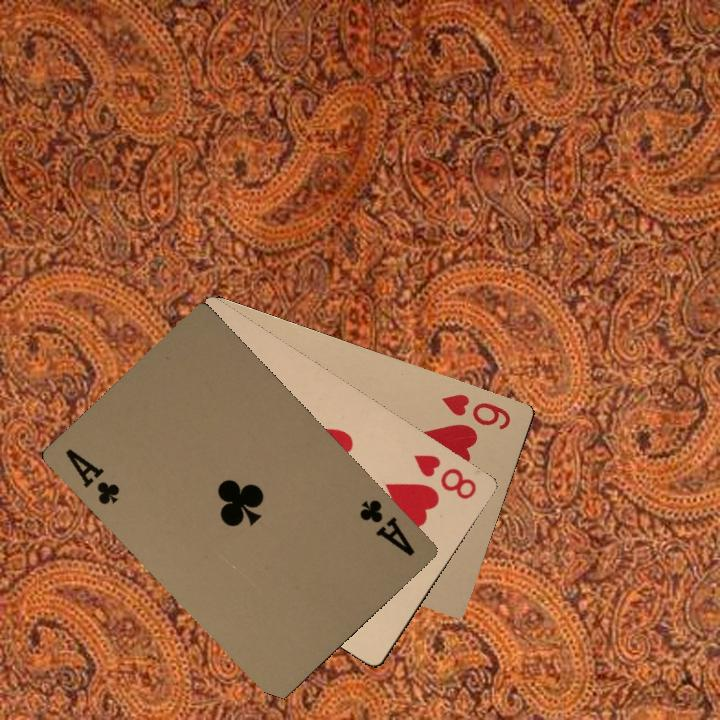6h: (440, 390, 513, 433)
8h: (410, 450, 479, 502)
Ac: (355, 495, 417, 559), (61, 444, 122, 507)
